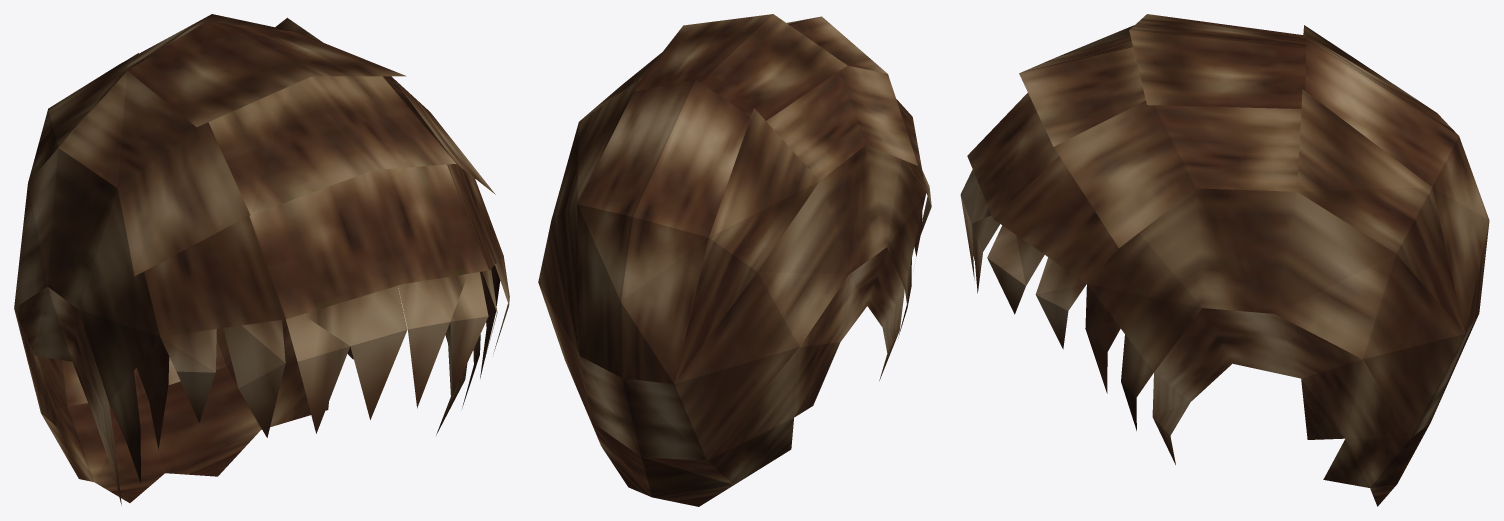
The model's file is hair2.dae.
3 views of the same model, side by side, from view 1: azimuth 30°, elevation 25°; view 2: azimuth 150°, elevation 25°; view 3: azimuth 270°, elevation 25° (orthographic). The views are drawn at different scales.
Visible parts, largest first — view 1: Hair_02; view 2: Hair_02; view 3: Hair_02.
Boxes of the visible parts, x1,y1,x2,y2 form: Hair_02: (14, 14, 509, 504); Hair_02: (538, 14, 931, 506); Hair_02: (960, 14, 1489, 506).
Size of the model in its own units: 6.89 by 9.21 by 9.59.
1 material, 1 textured.
